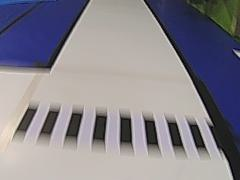CrossWalk: (6, 95, 219, 157)
